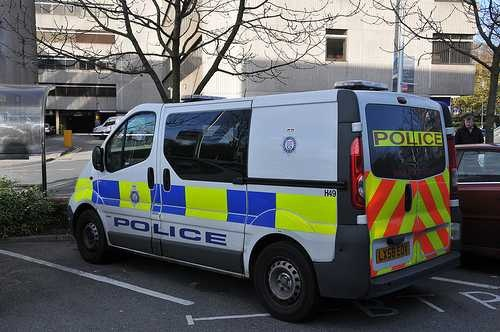Police Van: (58, 79, 479, 309)
